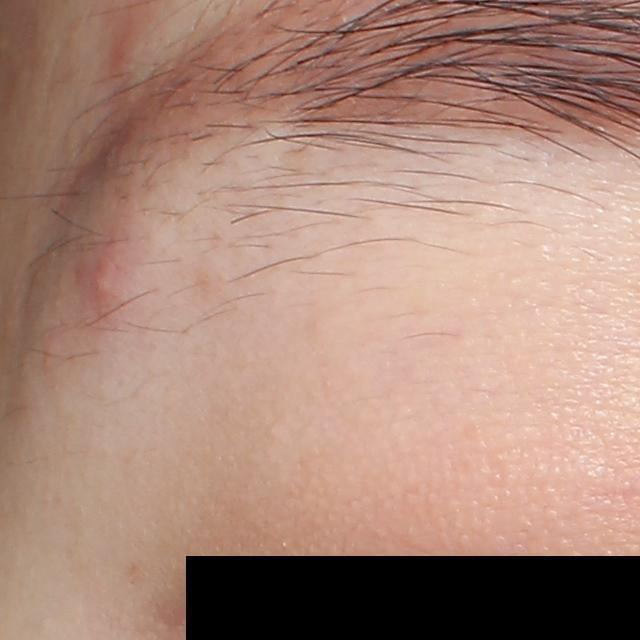papule: (90, 240, 131, 311)
